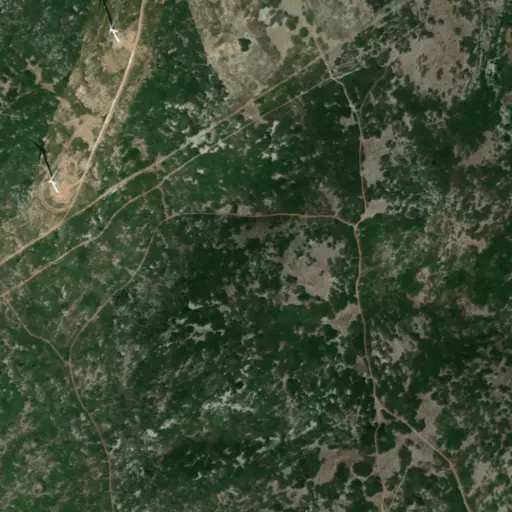wt: (27, 135, 63, 197), (97, 4, 123, 44)
